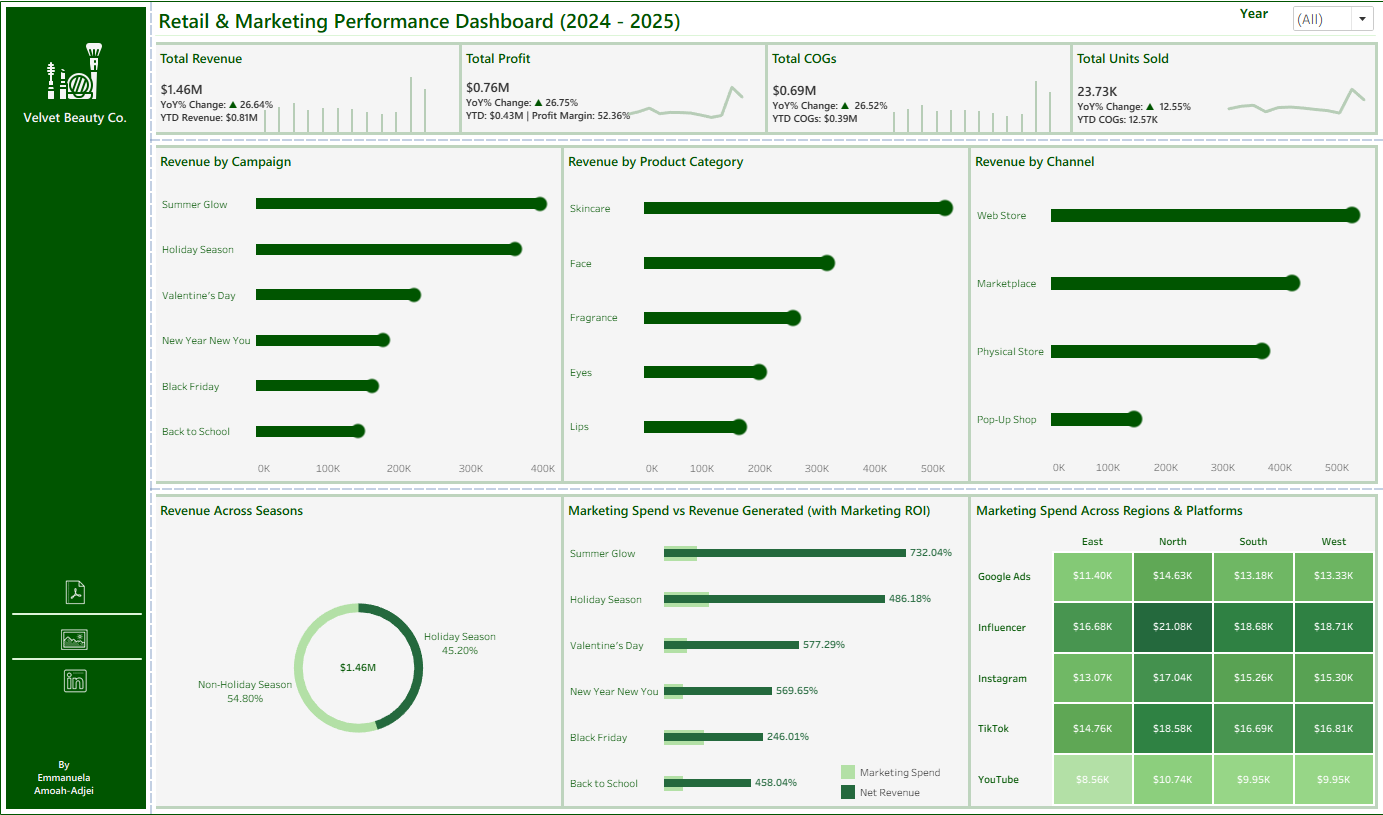

The dashboard page shown, as its layout file describes it:
{"tool":"tableau","page":{"name":"Dashboard 1","canvas":[1400,830],"ordinal":0},"visuals":[{"type":"title","box":[159,9,1232,35]},{"type":"filter","title":"Total Revenue KPI","param":"[federated.1sh5w1i12q99wp1dfwkv00eav53d].[none:Year (Calendar):ok]","box":[1226,10,159,37]},{"type":"image","param":"C:/Users/eamoa/Downloads/icons8-makeup-64.png","box":[14,14,140,129]},{"type":"text","box":[163,42,1221,1]},{"type":"worksheet","title":"Total Revenue KPI","mark":"Automatic","box":[164,49,306,93]},{"type":"worksheet","title":"Total Profit KPI","mark":"Automatic","box":[470,49,306,93]},{"type":"worksheet","title":"Total COGs KPI","mark":"Automatic","box":[776,49,305,93]},{"type":"worksheet","title":"Total Qty Sold KPI","mark":"Automatic","box":[1081,49,305,93]},{"type":"worksheet","title":"Revenue Trend KPI","mark":"Bar","rows":["Net_Revenue"],"cols":["Month_Number"],"box":[258,81,190,59]},{"type":"worksheet","title":"COGs Trend KPI","mark":"Bar","rows":["COGS"],"cols":["Month_Number"],"box":[888,85,184,54]},{"type":"worksheet","title":"Profit Trend KPI","mark":"Line","rows":["Profit"],"cols":["Month_Number"],"box":[626,90,134,48]},{"type":"worksheet","title":"QTY Trend KPI","mark":"Line","rows":["Units_Sold"],"cols":["Month_Number"],"box":[1224,92,160,47]},{"type":"text","box":[28,102,115,44]},{"type":"worksheet","title":"Revenue by Campaign","mark":"Automatic","rows":["Campaign (MarketingSpend)"],"cols":["Net_Revenue","Net_Revenue"],"box":[164,152,408,339]},{"type":"worksheet","title":"Revenue by Product Category","mark":"Automatic","rows":["Category"],"cols":["Net_Revenue","Net_Revenue"],"box":[572,152,407,339]},{"type":"worksheet","title":"Revenue by Channel","mark":"Automatic","rows":["Channel_Name"],"cols":["Net_Revenue","Net_Revenue"],"box":[979,152,407,339]},{"type":"worksheet","title":"Holiday vs Non-Holiday Revenue","mark":"Pie","cols":["Calculation_1732009059610633","Calculation_1732009059643403"],"box":[164,501,408,315]},{"type":"worksheet","title":"Revenue vs Marketing Spend","mark":"Bar","rows":["Campaign (MarketingSpend)"],"cols":["Marketing_Spend","Net_Revenue"],"box":[572,501,407,315]},{"type":"worksheet","title":"Marketing Spend Across Regions & Platforms","mark":"Square","rows":["Platform"],"cols":["Region"],"box":[979,501,407,315]},{"type":"dashboard-object","box":[68,577,30,45]},{"type":"text","box":[20,620,130,2]},{"type":"dashboard-object","box":[67,624,30,45]},{"type":"text","box":[20,665,130,2]},{"type":"image","param":"C:/Users/eamoa/Downloads/icons8-linkedin-80.png","box":[68,673,30,45]},{"type":"text","box":[14,764,116,42]},{"type":"legend","title":"Revenue vs Marketing Spend","param":"[federated.1sh5w1i12q99wp1dfwkv00eav53d].[:Measure Names]","box":[846,769,129,43]}]}

Visuals, with their boxes in screenshot pixels (x1, y1, x2, y2), scaled from the page's 1400x830 canvas onto the 1383x815 screenshot:
title: left=157, top=9, right=1374, bottom=43
"Total Revenue KPI" filter: left=1211, top=10, right=1368, bottom=46
image: left=14, top=14, right=152, bottom=140
text: left=161, top=41, right=1367, bottom=42
"Total Revenue KPI" worksheet: left=162, top=48, right=464, bottom=139
"Total Profit KPI" worksheet: left=464, top=48, right=767, bottom=139
"Total COGs KPI" worksheet: left=767, top=48, right=1068, bottom=139
"Total Qty Sold KPI" worksheet: left=1068, top=48, right=1369, bottom=139
"Revenue Trend KPI" worksheet (Bar marks): left=255, top=80, right=443, bottom=137
"COGs Trend KPI" worksheet (Bar marks): left=877, top=83, right=1059, bottom=136
"Profit Trend KPI" worksheet (Line marks): left=618, top=88, right=751, bottom=136
"QTY Trend KPI" worksheet (Line marks): left=1209, top=90, right=1367, bottom=136
text: left=28, top=100, right=141, bottom=143
"Revenue by Campaign" worksheet: left=162, top=149, right=565, bottom=482
"Revenue by Product Category" worksheet: left=565, top=149, right=967, bottom=482
"Revenue by Channel" worksheet: left=967, top=149, right=1369, bottom=482
"Holiday vs Non-Holiday Revenue" worksheet (Pie marks): left=162, top=492, right=565, bottom=801
"Revenue vs Marketing Spend" worksheet (Bar marks): left=565, top=492, right=967, bottom=801
"Marketing Spend Across Regions & Platforms" worksheet (Square marks): left=967, top=492, right=1369, bottom=801
dashboard-object: left=67, top=567, right=97, bottom=611
text: left=20, top=609, right=148, bottom=611
dashboard-object: left=66, top=613, right=96, bottom=657
text: left=20, top=653, right=148, bottom=655
image: left=67, top=661, right=97, bottom=705
text: left=14, top=750, right=128, bottom=791
"Revenue vs Marketing Spend" legend: left=836, top=755, right=963, bottom=797
